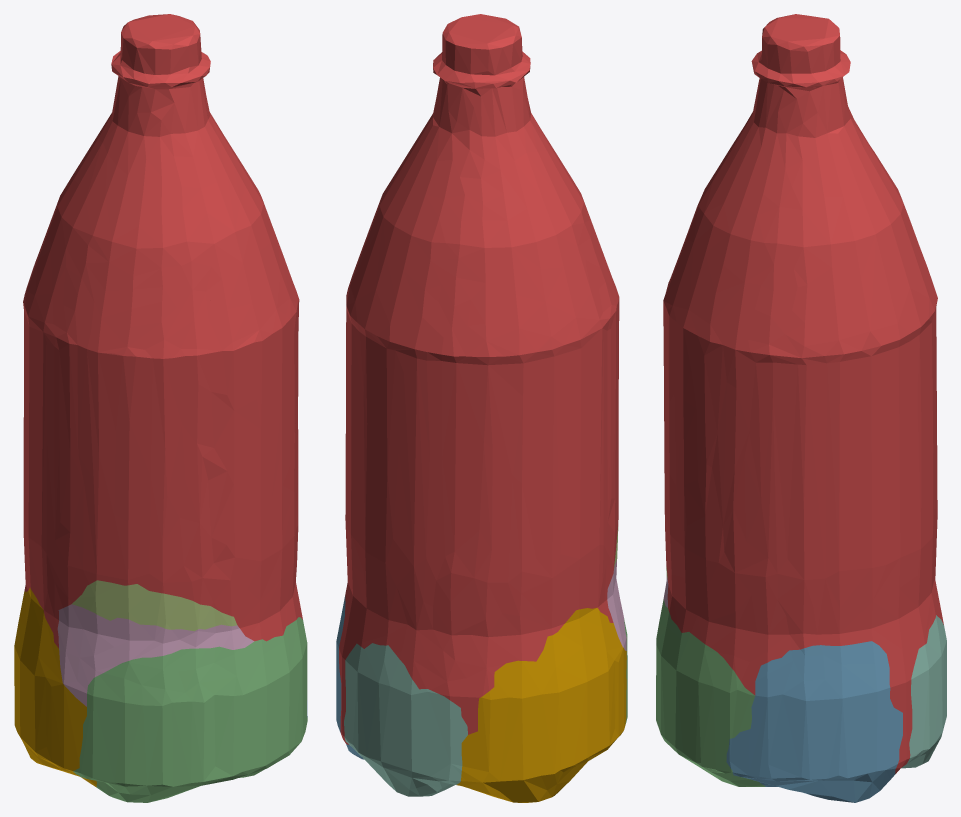
The model's file is mode_14_8pcs.glb.
3 renders of one model, left to right at view 1: azimuth 30°, elevation 25°; view 2: azimuth 150°, elevation 25°; view 3: azimuth 270°, elevation 25°, orthographic.
Parts seen in each view (by area): view 1: piece_1.obj, piece_3.obj, piece_0.obj, piece_6.obj, piece_5.obj; view 2: piece_1.obj, piece_0.obj, piece_4.obj, piece_6.obj, piece_2.obj; view 3: piece_1.obj, piece_2.obj, piece_3.obj, piece_4.obj.
Part boxes in pixels (<box>): piece_1.obj: <box>23,14,302,648</box>; piece_3.obj: <box>73,617,307,802</box>; piece_0.obj: <box>14,587,96,787</box>; piece_6.obj: <box>57,604,254,706</box>; piece_5.obj: <box>72,580,236,631</box>; piece_1.obj: <box>339,14,619,744</box>; piece_0.obj: <box>457,608,626,802</box>; piece_4.obj: <box>344,643,467,796</box>; piece_6.obj: <box>607,560,626,650</box>; piece_2.obj: <box>336,595,363,759</box>; piece_1.obj: <box>663,14,943,773</box>; piece_2.obj: <box>726,641,902,802</box>; piece_3.obj: <box>656,599,765,786</box>; piece_4.obj: <box>901,615,946,768</box>.
Bounding box in the file's own units: 0.3641 × 1 × 0.3636.
